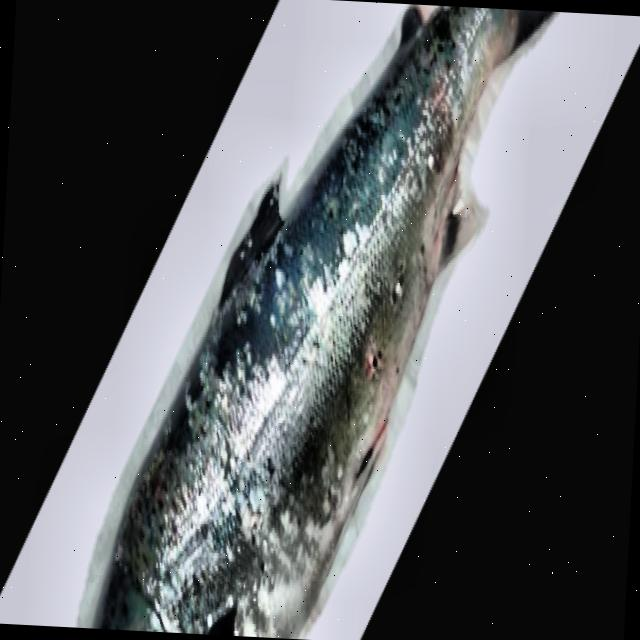mild_red: (113, 6, 525, 634)
